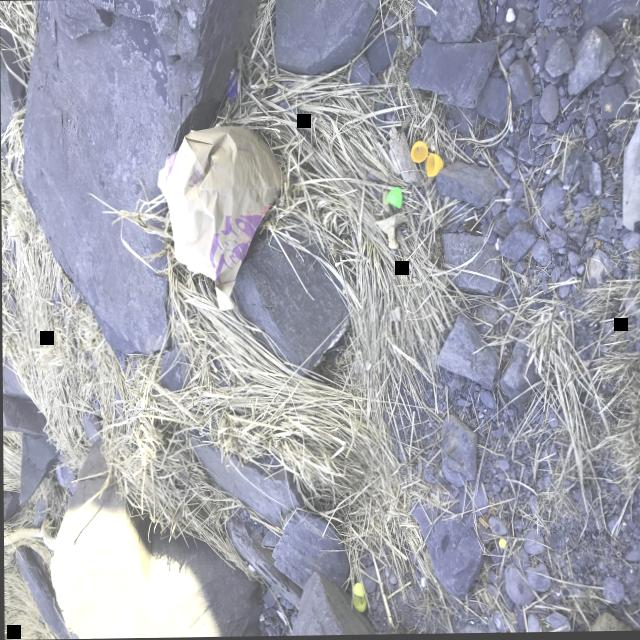Other plastic bottle: (426, 154, 443, 177), (385, 187, 402, 209), (411, 141, 428, 163), (353, 596, 365, 613), (353, 583, 364, 596), (498, 539, 505, 548)
Paper bag: (157, 126, 284, 311)
Unlabeled litter: (225, 69, 237, 100)
